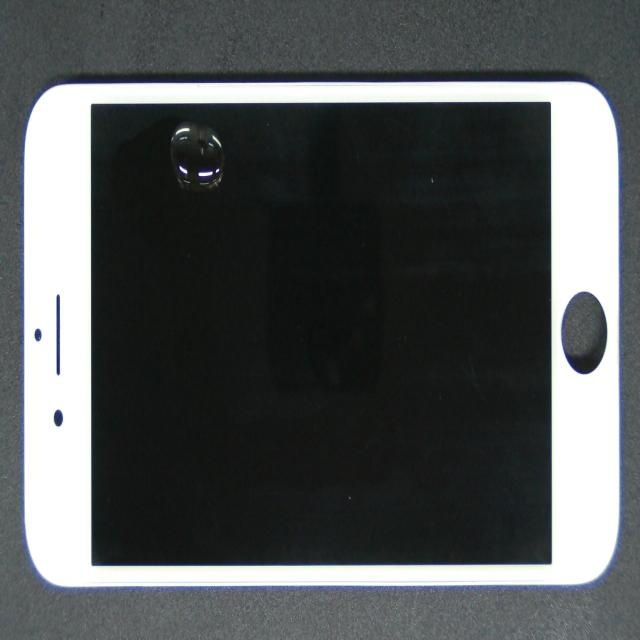oil: (112, 121, 337, 254)
